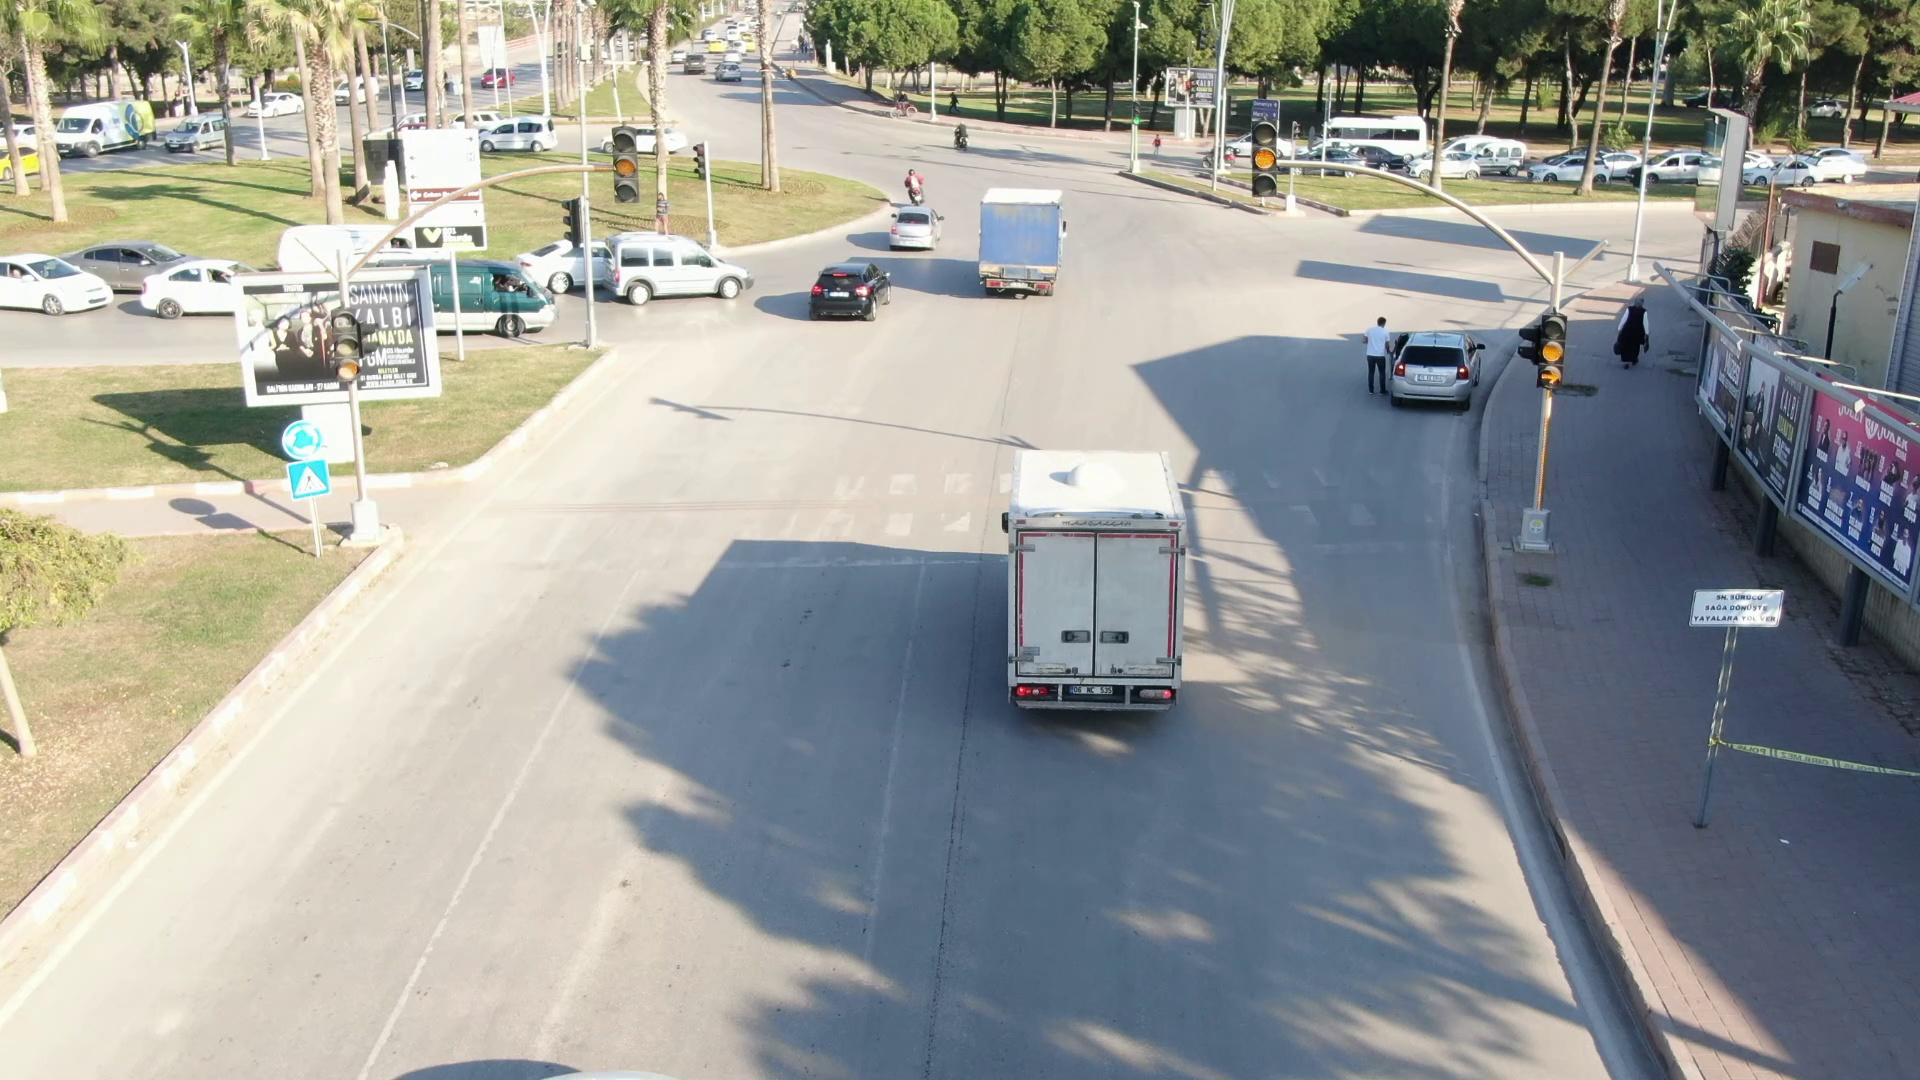car: (984, 429, 1230, 730), (968, 181, 1088, 327), (591, 221, 764, 308), (1390, 327, 1487, 412), (798, 249, 904, 326), (881, 196, 948, 250)
person: (1604, 290, 1658, 372), (1352, 309, 1393, 408)
